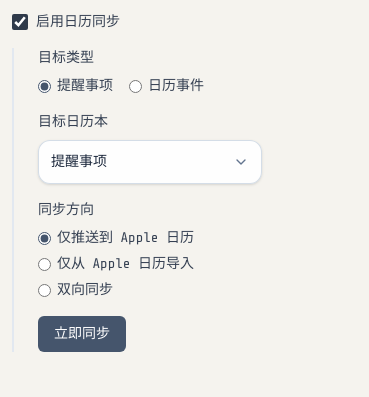
Test case: sync button shows result summary
Click the button "立即同步" at [82, 334], box [38,316,126,352]
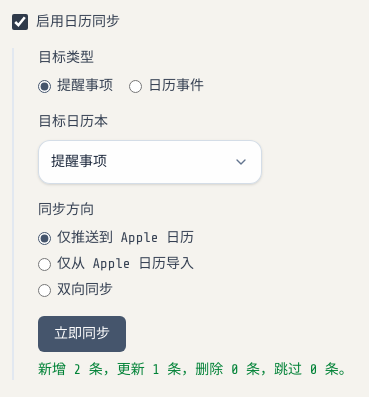
expect the text "新增 2 条，更新 1 条，删除 0 条，跳过 0 条。" is shown: met, box [38,362,353,377]
